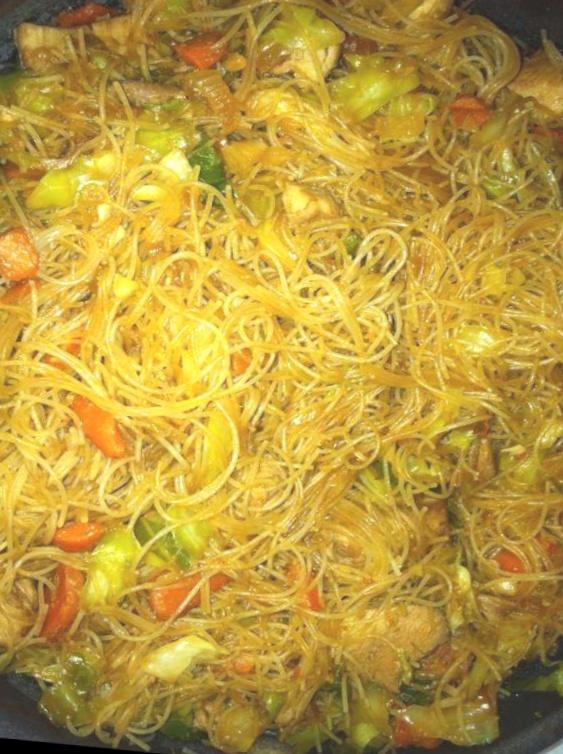pancit bihon: (0, 7, 563, 754)
